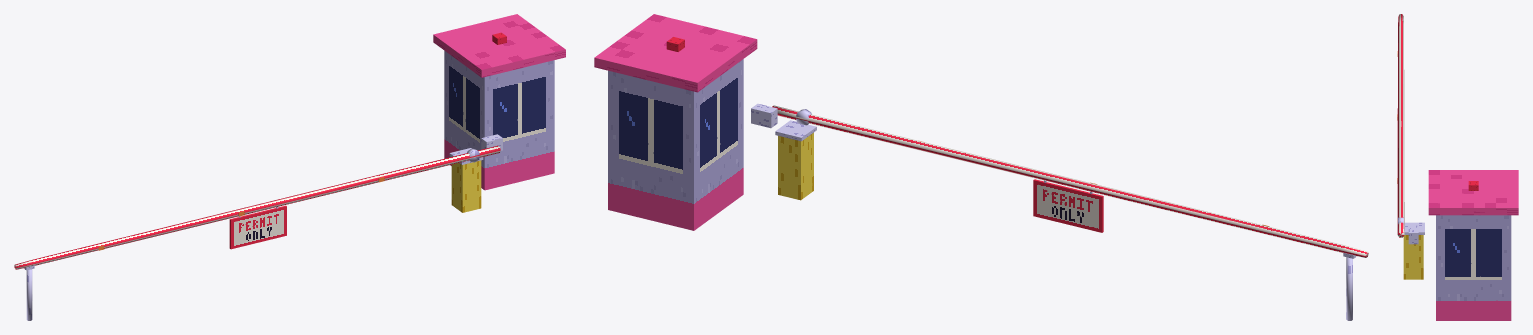
The model's file is Gate.fbx.
3 renders of one model, left to right at view 1: azimuth 30°, elevation 25°; view 2: azimuth 150°, elevation 25°; view 3: azimuth 270°, elevation 25°, orthographic. The views are drawn at different scales.
Parts seen in each view (by area): view 1: Gate booth.001, Gate booth roof, Gate arm.001, Gate sign.001, Gate pedestal; view 2: Gate booth.001, Gate booth roof, Gate arm.001, Gate sign.001, Gate pedestal, Gate housing top, Gate counterweight; view 3: Gate booth.001, Gate booth roof, Gate arm.001, Gate pedestal, Gate counterweight, Gate housing top, Gate booth light.
Boxes of the visible parts, bbox=[...] form: Gate booth.001: bbox=[444, 50, 554, 190]; Gate booth roof: bbox=[433, 14, 565, 77]; Gate arm.001: bbox=[14, 145, 500, 269]; Gate sign.001: bbox=[229, 205, 286, 249]; Gate pedestal: bbox=[451, 160, 481, 212]; Gate booth.001: bbox=[608, 59, 743, 230]; Gate booth roof: bbox=[594, 14, 757, 92]; Gate arm.001: bbox=[772, 105, 1368, 257]; Gate sign.001: bbox=[1033, 179, 1103, 232]; Gate pedestal: bbox=[778, 132, 813, 200]; Gate housing top: bbox=[775, 120, 816, 141]; Gate counterweight: bbox=[751, 103, 777, 128]; Gate booth.001: bbox=[1436, 215, 1511, 320]; Gate booth roof: bbox=[1428, 170, 1518, 215]; Gate arm.001: bbox=[1397, 14, 1404, 237]; Gate pedestal: bbox=[1403, 235, 1423, 279]; Gate counterweight: bbox=[1408, 225, 1418, 244]; Gate housing top: bbox=[1404, 222, 1424, 234]; Gate booth light: bbox=[1468, 181, 1478, 190].
Bounding box in the file's own units: 12.1 × 2.69 × 2.43.
8 materials, 8 textured.
